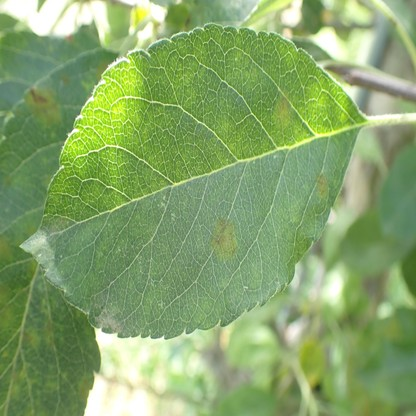powdery_mildew: (29, 221, 67, 247), (95, 303, 122, 332)
scab: (25, 83, 60, 129), (209, 218, 236, 257), (274, 90, 292, 127), (0, 284, 13, 327), (93, 57, 112, 84), (77, 375, 94, 404), (46, 320, 62, 348), (315, 173, 330, 201), (22, 326, 40, 349), (0, 172, 18, 191), (0, 236, 13, 261), (45, 378, 58, 393), (42, 300, 52, 314), (12, 385, 20, 402), (25, 224, 36, 236), (20, 363, 30, 375), (59, 75, 69, 85), (11, 369, 18, 381), (63, 371, 68, 382)
